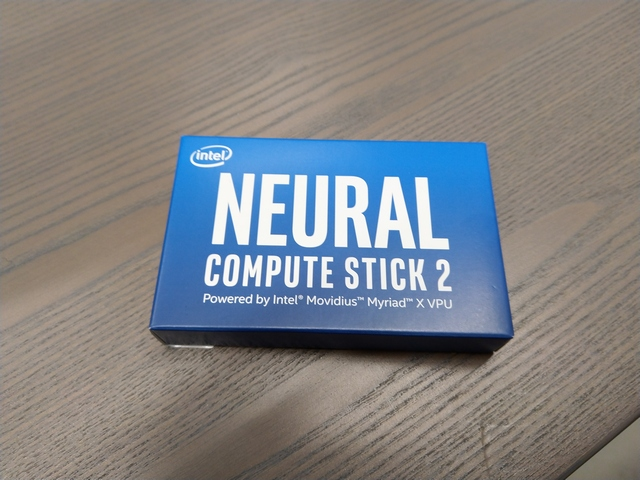box: (148, 133, 515, 356)
